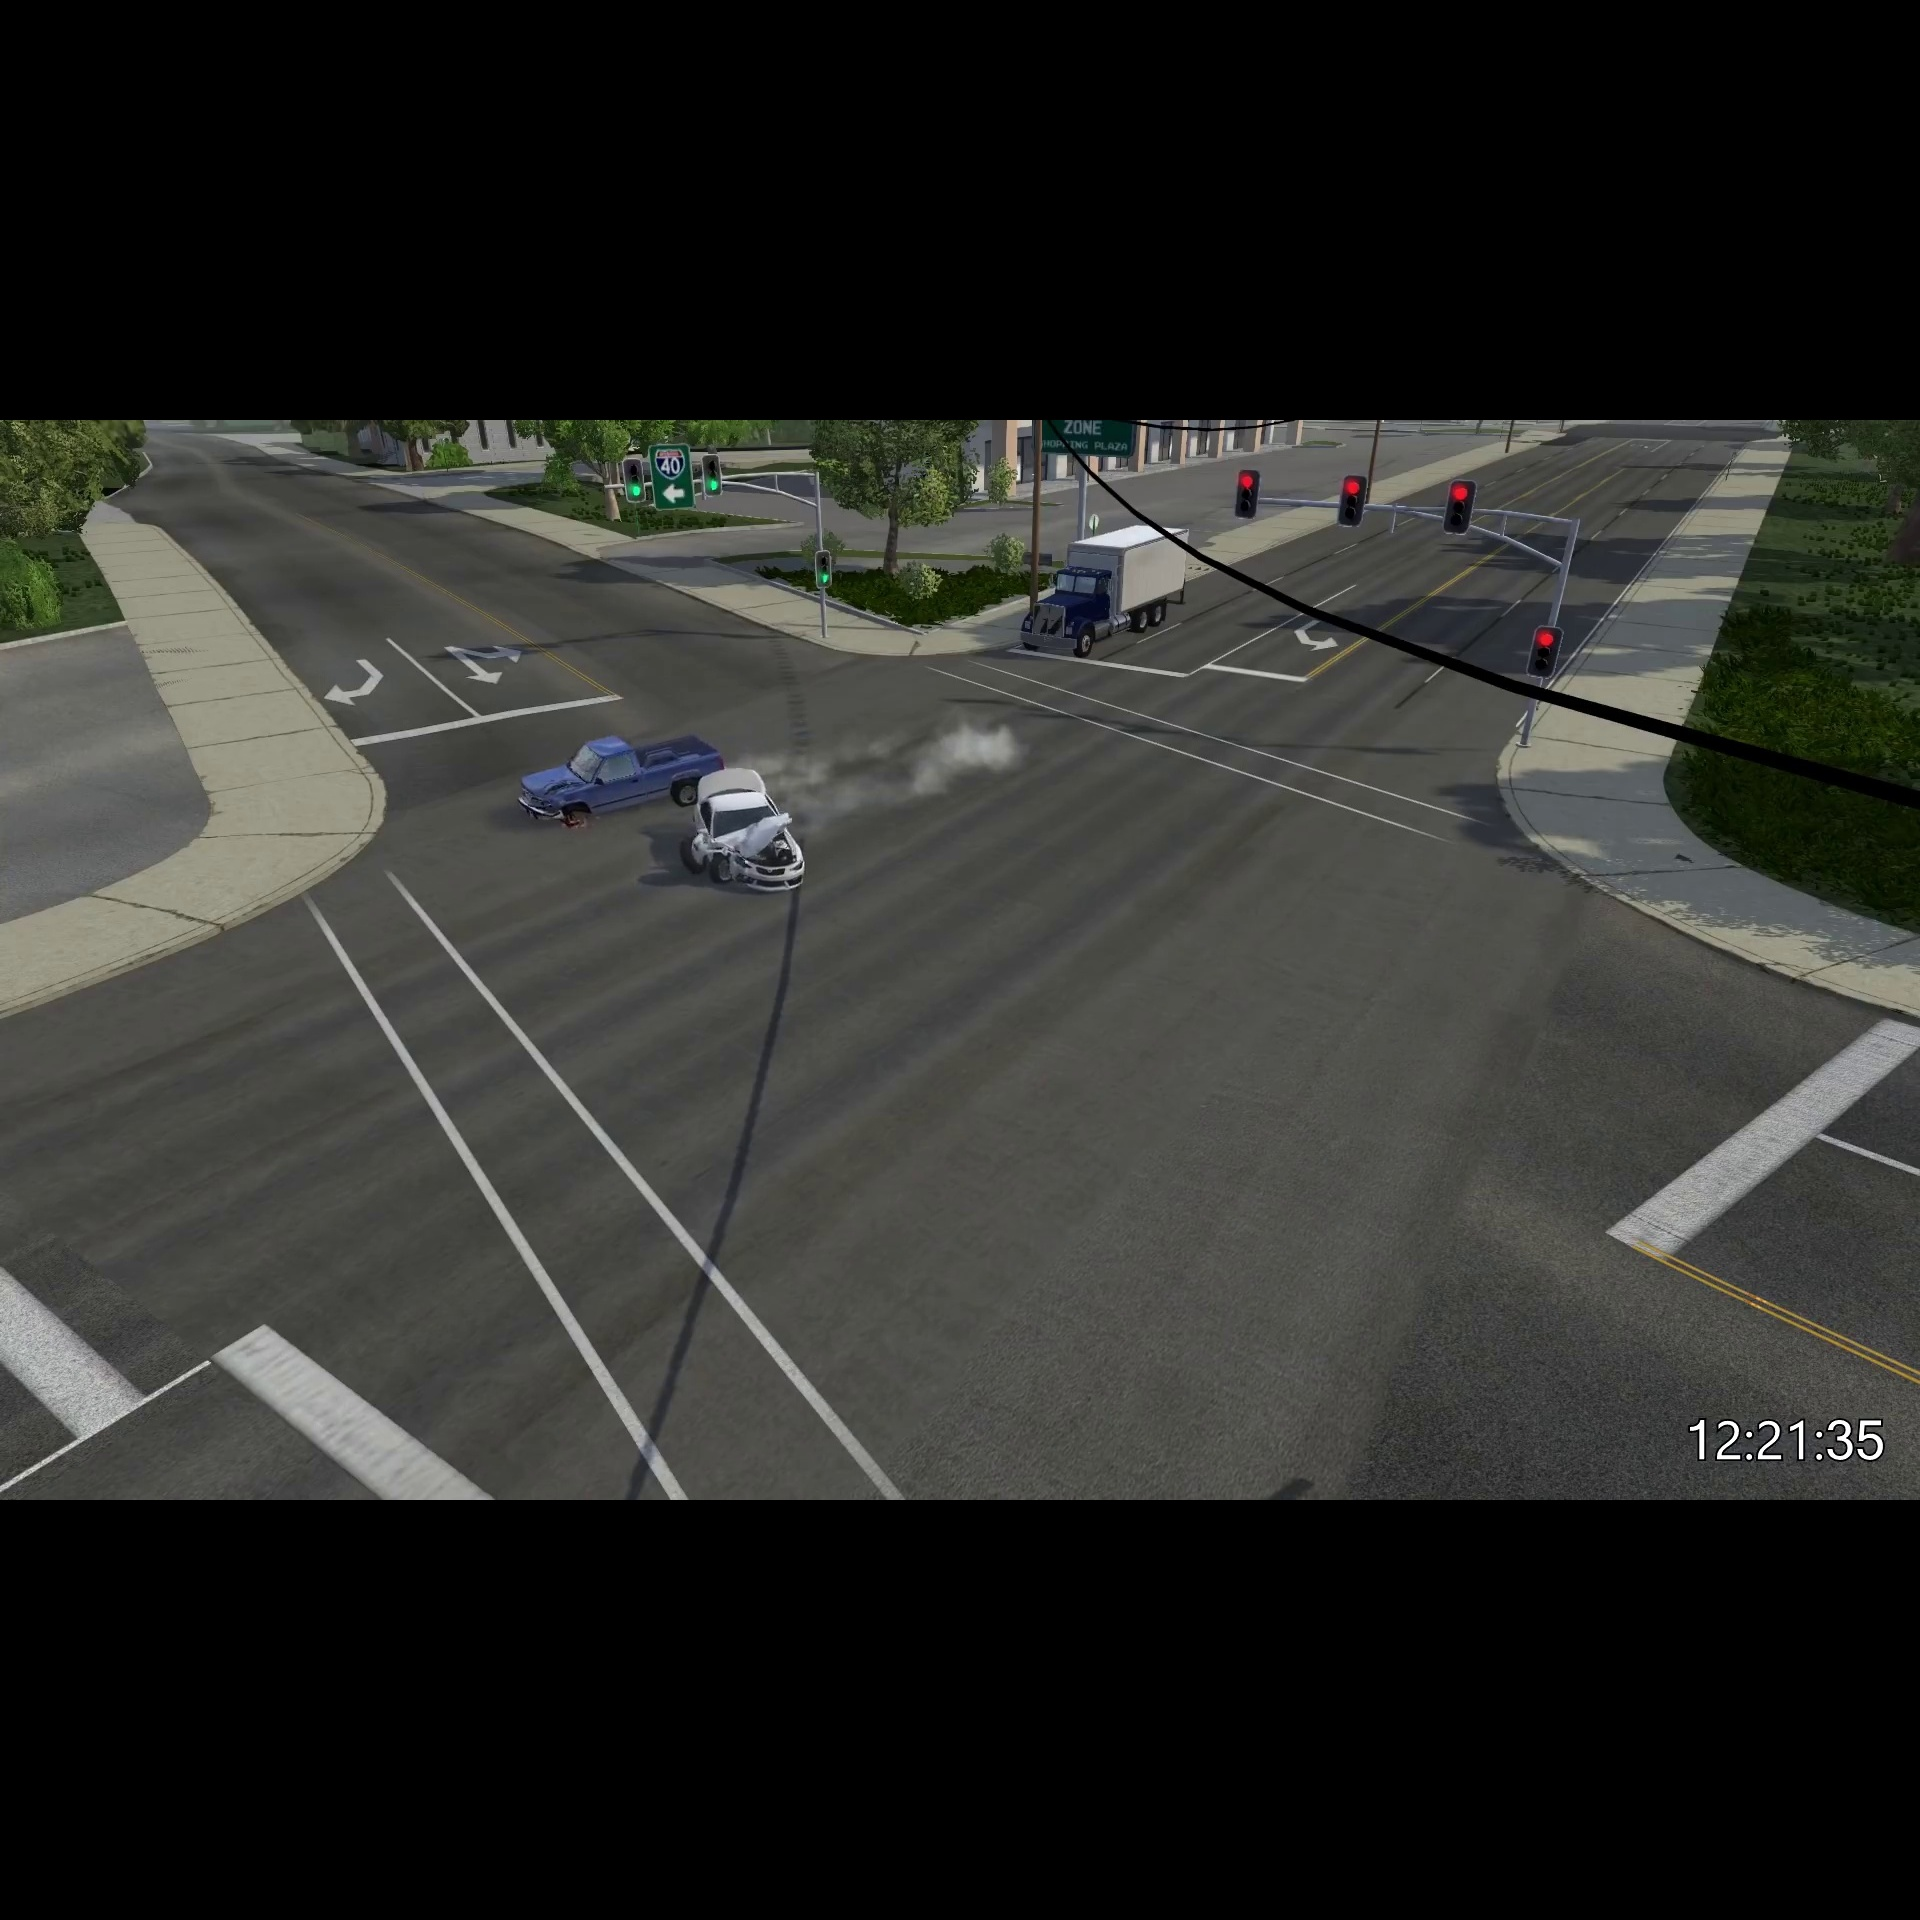vehicle: (1016, 517, 1199, 666), (517, 726, 731, 833), (682, 767, 812, 898)
